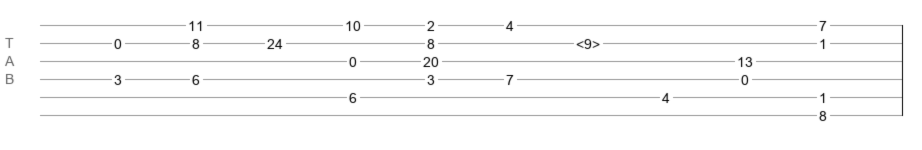0: (114, 36, 122, 46), (349, 54, 357, 64), (741, 72, 749, 82)
1: (819, 36, 827, 46), (819, 90, 827, 100)
10: (345, 18, 361, 28)
11: (188, 18, 204, 28)
13: (737, 54, 753, 64)
2: (427, 18, 435, 28)
20: (423, 54, 439, 64)
24: (267, 36, 283, 46)
3: (114, 72, 122, 82), (427, 72, 435, 82)
4: (506, 18, 514, 28), (662, 90, 670, 100)
6: (192, 72, 200, 82), (349, 90, 357, 100)
7: (506, 72, 514, 82), (819, 18, 827, 28)
8: (192, 36, 200, 46), (427, 36, 435, 46), (819, 108, 827, 118)
harmonic: (576, 36, 600, 46)
